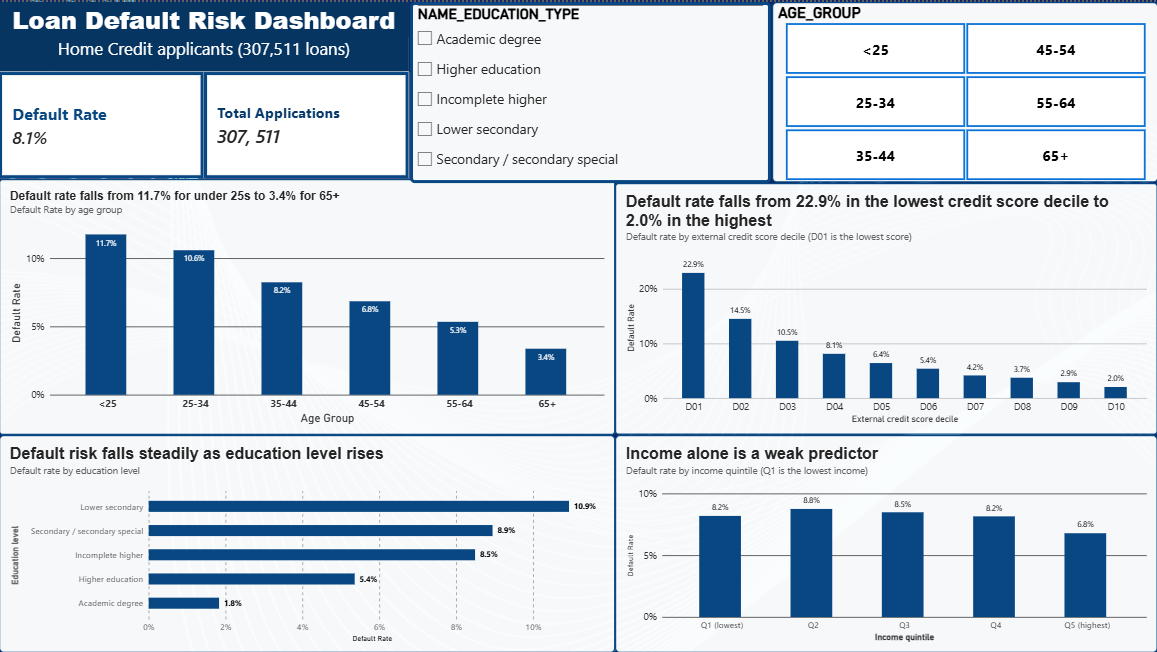

What the dashboard file says about the page in this screenshot:
{"tool":"powerbi","page":{"name":"Page 1","canvas":[1920,1080],"ordinal":0},"visuals":[{"type":"cardVisual","fields":{"Data":["dashboard_data.Default Rate"]},"box":[0,116.8,339.9,176.4],"z":0},{"type":"cardVisual","fields":{"Data":["dashboard_data.Total Applications"]},"box":[339.9,116.8,339.9,176.4],"z":1},{"type":"clusteredColumnChart","title":"Default rate falls from 11.7% for under 25s to 3.4% for 65+","fields":{"Category":["dashboard_data.AGE_GROUP"],"Y":["dashboard_data.Default Rate"]},"box":[0,293.1,1021.3,424.5],"z":2},{"type":"clusteredColumnChart","title":"Default rate falls from 22.9% in the lowest credit score decile to 2.0% in the highest","fields":{"Category":["dashboard_data.EXT_SCORE_DECILE"],"Y":["dashboard_data.Default Rate"]},"box":[1021.3,300.2,898.7,417.4],"z":3},{"type":"clusteredBarChart","title":"Default risk falls steadily as education level rises","fields":{"Category":["dashboard_data.NAME_EDUCATION_TYPE"],"Y":["dashboard_data.Default Rate"]},"box":[0,717.6,1021.3,360.6],"z":4},{"type":"clusteredColumnChart","title":"Income alone is a weak predictor","fields":{"Category":["dashboard_data.INCOME_GROUP"],"Y":["dashboard_data.Default Rate"]},"box":[1021.3,717.6,898.7,360.6],"z":5},{"type":"slicer","fields":{"Values":["dashboard_data.NAME_EDUCATION_TYPE"]},"box":[681.3,0,597.6,299.9],"z":6},{"type":"slicer","fields":{"Values":["dashboard_data.AGE_GROUP"]},"box":[1280,0,640,299.4],"z":7},{"type":"textbox","title":"Loan Default Risk Dashboard","box":[0,0,678.8,116.4],"z":8}]}

Visuals, with their boxes in screenshot pixels (x1, y1, x2, y2), scaled from the page's 1920x1080 canvas onto the 1157x652 screenshot:
cardVisual - dashboard_data.Default Rate: [0, 71, 205, 177]
cardVisual - dashboard_data.Total Applications: [205, 71, 410, 177]
"Default rate falls from 11.7% for under 25s to 3.4% for 65+" clusteredColumnChart: [0, 177, 615, 433]
"Default rate falls from 22.9% in the lowest credit score decile to 2.0% in the highest" clusteredColumnChart: [615, 181, 1156, 433]
"Default risk falls steadily as education level rises" clusteredBarChart: [0, 433, 615, 651]
"Income alone is a weak predictor" clusteredColumnChart: [615, 433, 1156, 651]
slicer - dashboard_data.NAME_EDUCATION_TYPE: [411, 0, 771, 181]
slicer - dashboard_data.AGE_GROUP: [771, 0, 1156, 181]
"Loan Default Risk Dashboard" textbox: [0, 0, 409, 70]
